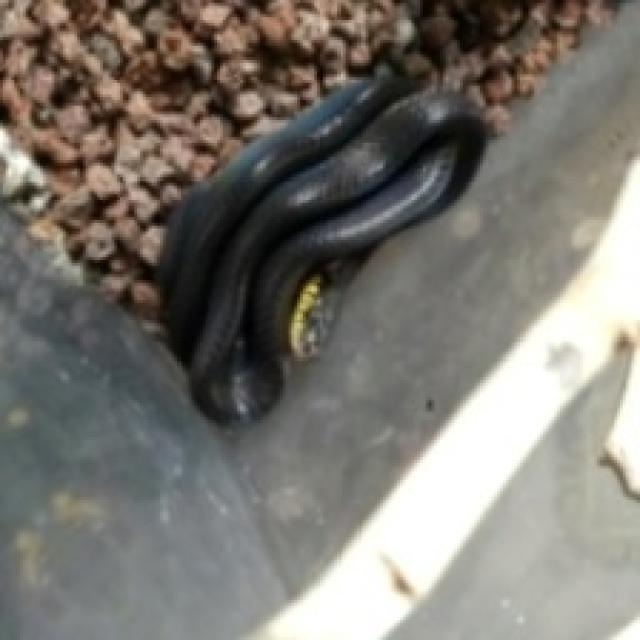mangrove cat snake: (160, 77, 483, 420)
